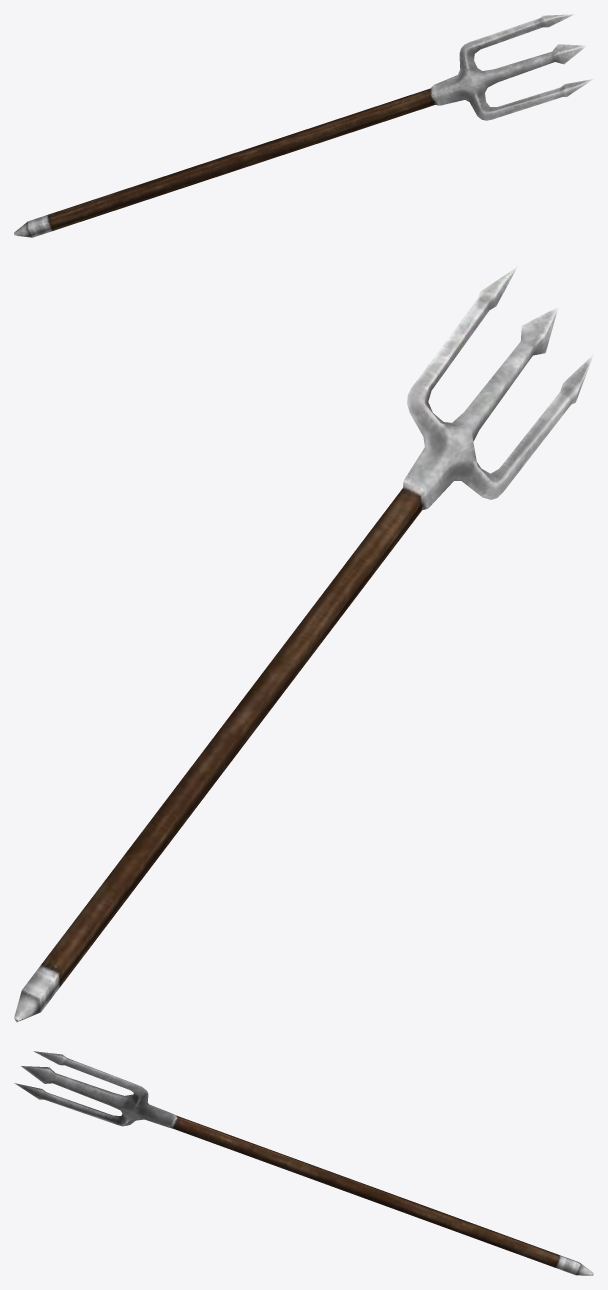
The model's file is rider-weapon-slice-base.glb.
3 renders of one model, top to bottom at view 1: azimuth 90°, elevation 25°; view 2: azimuth 150°, elevation 25°; view 3: azimuth 270°, elevation 25°, orthographic. The views are drawn at different scales.
Bounding box in the file's own units: 0.203 × 0.9252 × 2.18.
Materials: 1 (1 with a texture image).
